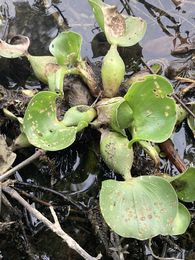water_hyacinth: (25, 1, 194, 243)
